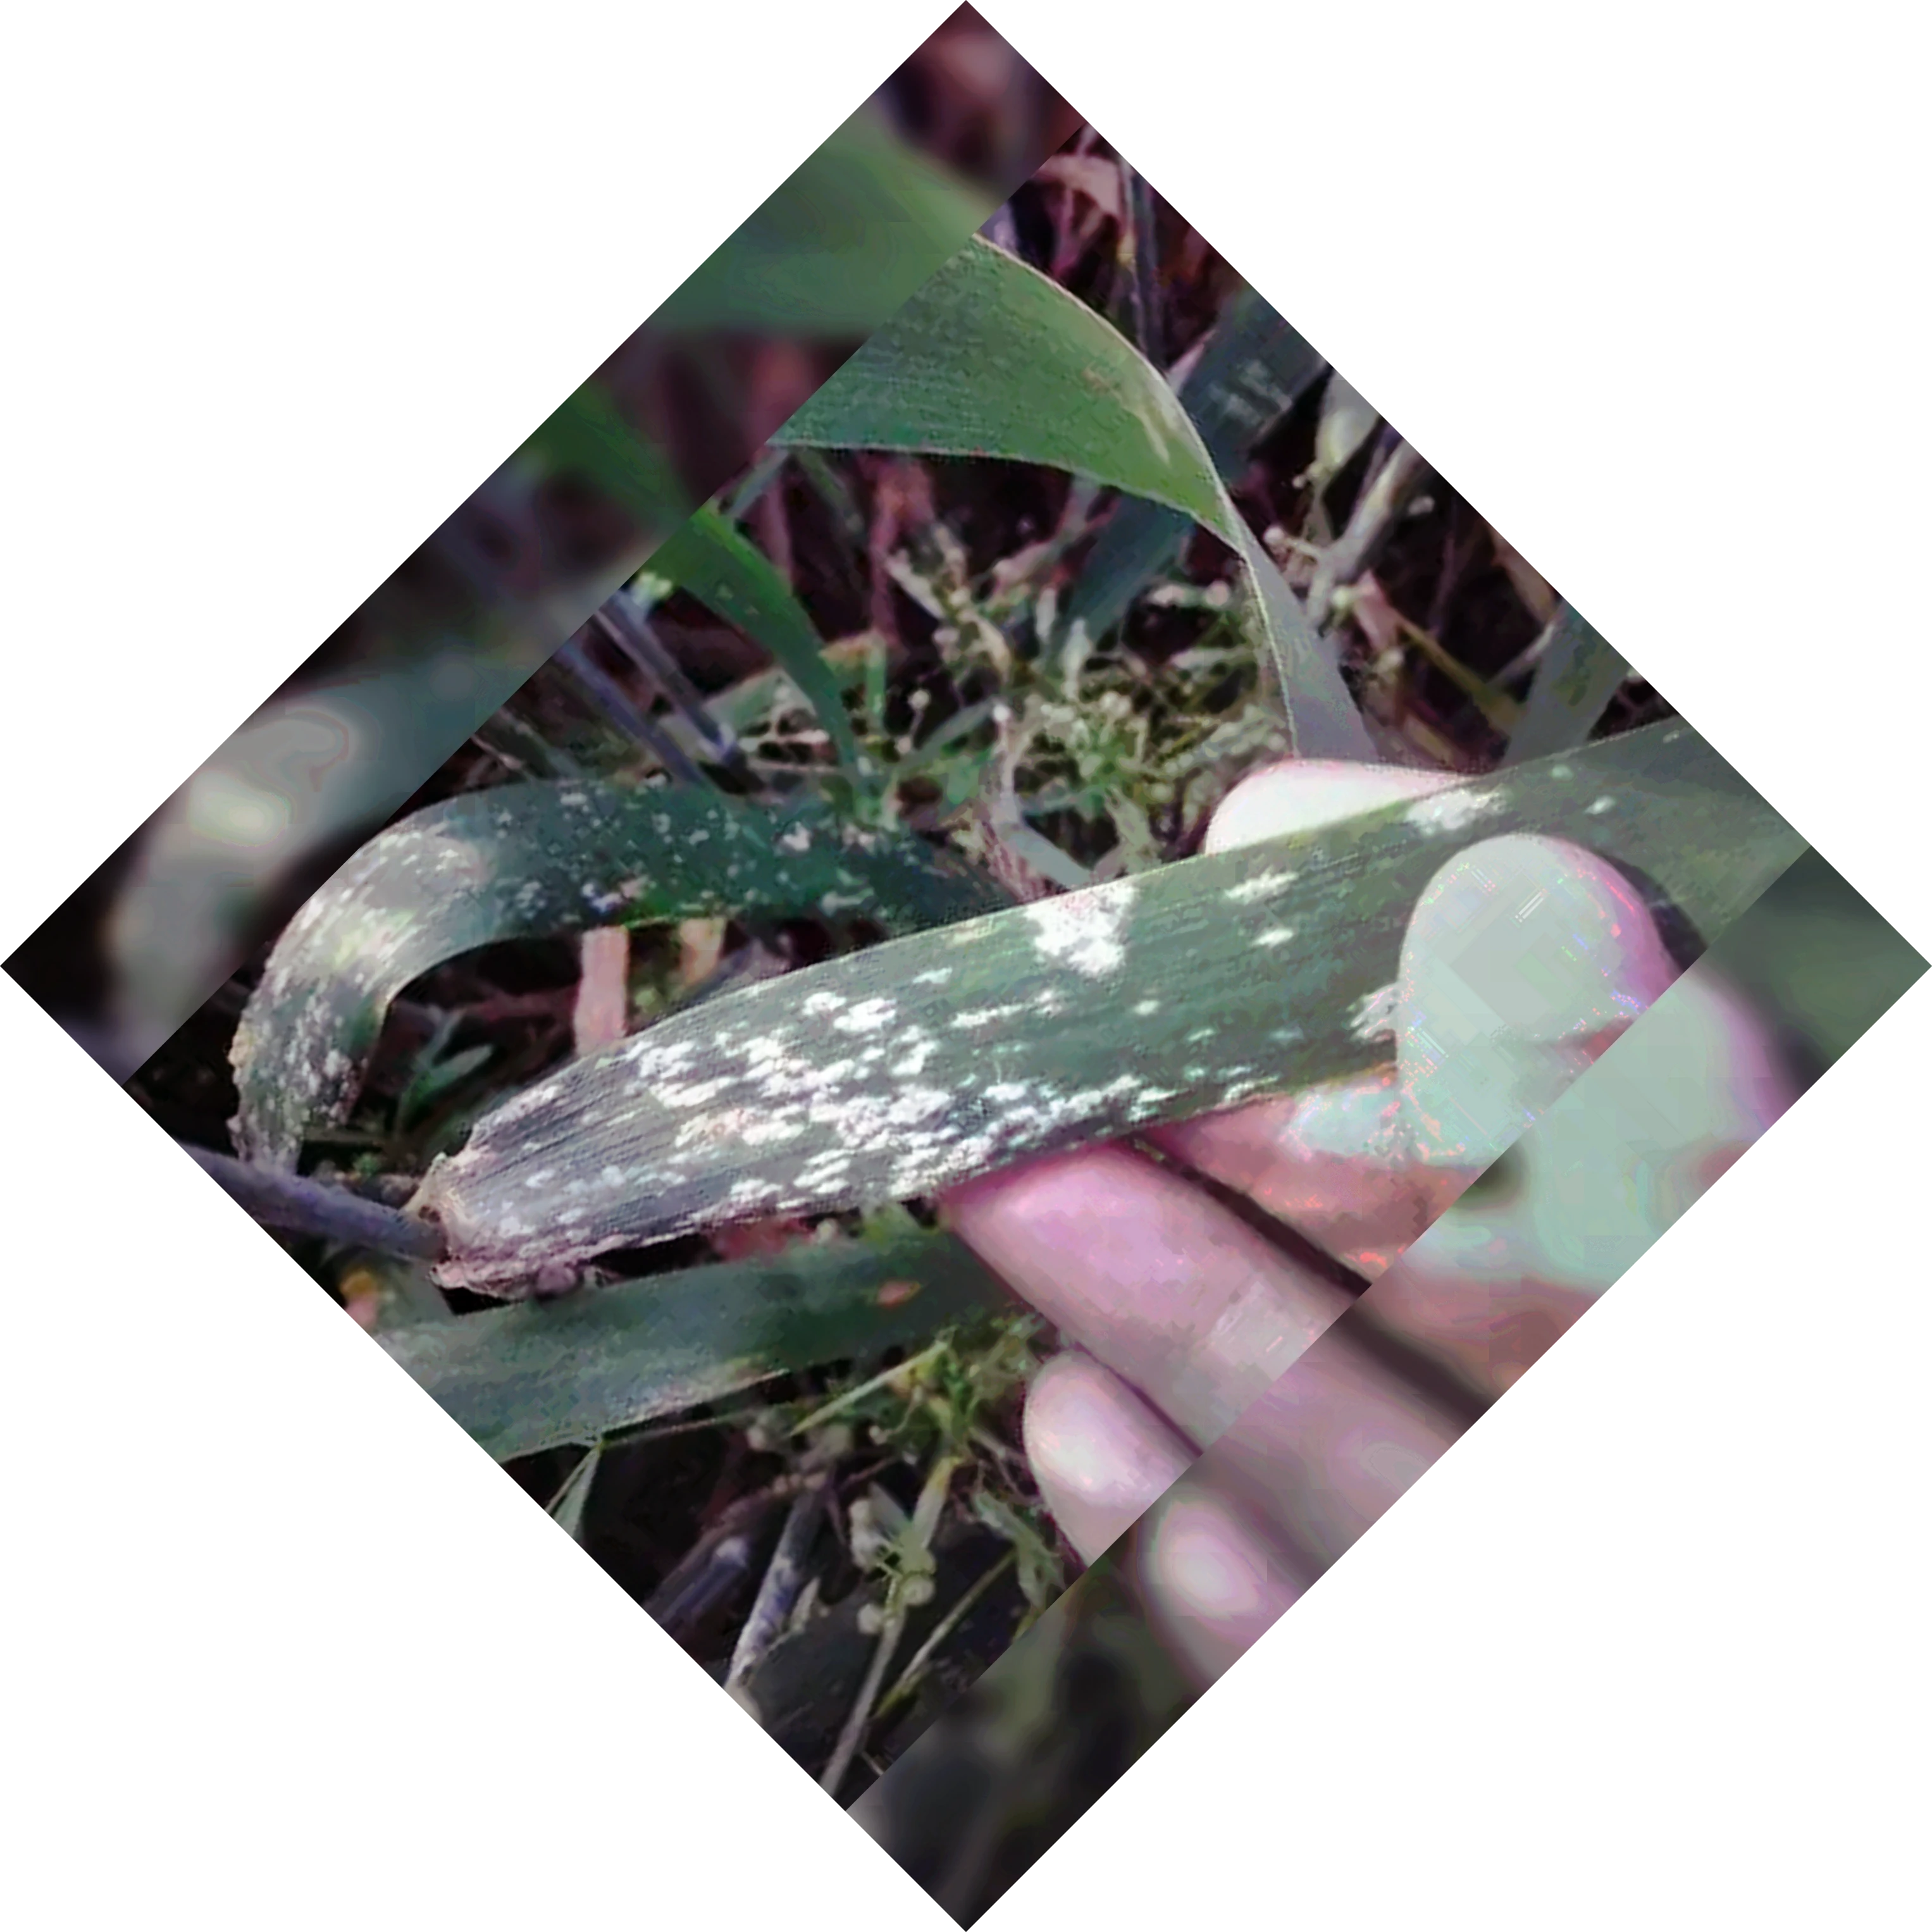Powdery Mildew: (490, 846, 1329, 1247)
